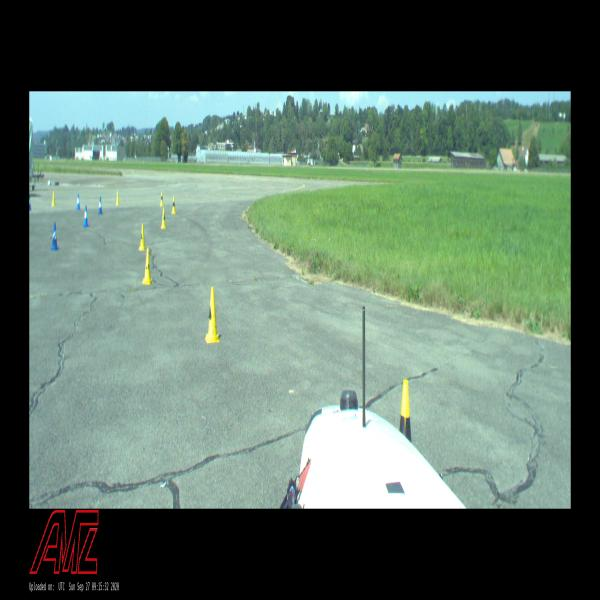blue_cone: (51, 221, 58, 250), (83, 204, 89, 228), (98, 196, 103, 215), (76, 192, 80, 210), (29, 194, 32, 211)
yellow_cone: (205, 286, 220, 344), (399, 379, 412, 443), (142, 247, 153, 286), (139, 223, 146, 251), (161, 207, 166, 229), (51, 191, 56, 207), (172, 196, 176, 214), (160, 191, 164, 207), (116, 191, 120, 206)
